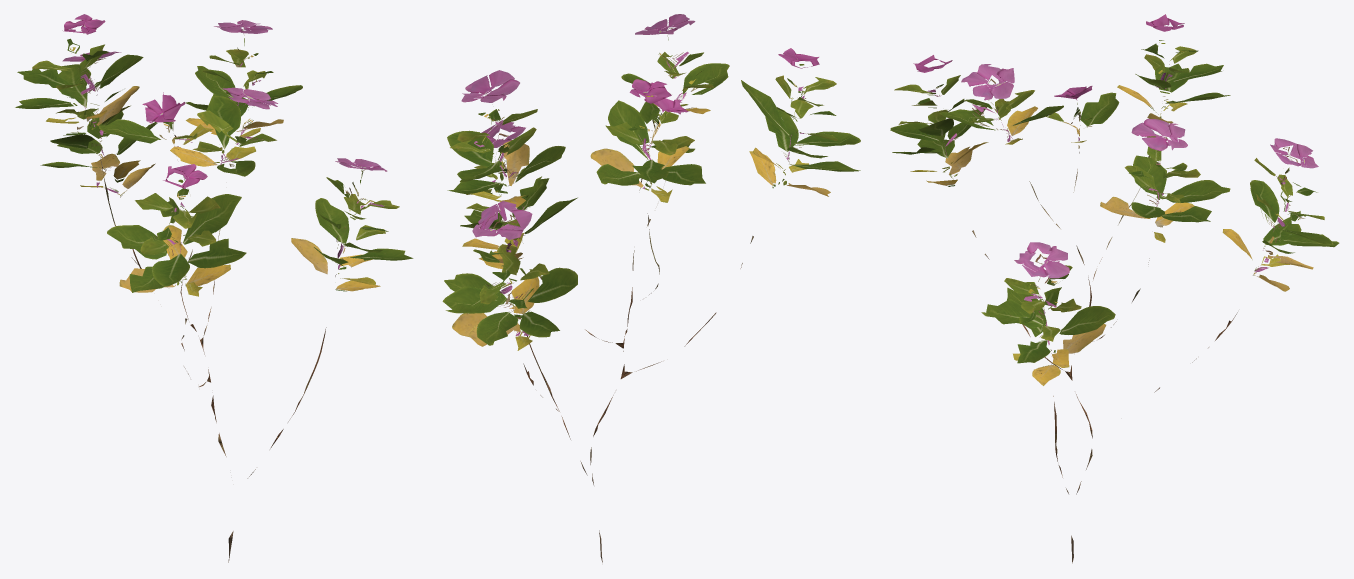
Rendered from perennial-bloom-lod1.glb.
3 views of the same model, side by side, from view 1: azimuth 30°, elevation 25°; view 2: azimuth 150°, elevation 25°; view 3: azimuth 270°, elevation 25° (orthographic). The views are drawn at different scales.
Parts seen in each view (by area): view 1: foliage; view 2: foliage; view 3: foliage.
Part boxes in pixels (bbox=[...]): foliage: bbox=[15, 14, 413, 562]; foliage: bbox=[442, 14, 860, 562]; foliage: bbox=[890, 14, 1339, 563].
Bounding box in the file's own units: 0.2565 × 0.3909 × 0.3185.
1 material, 1 textured.
